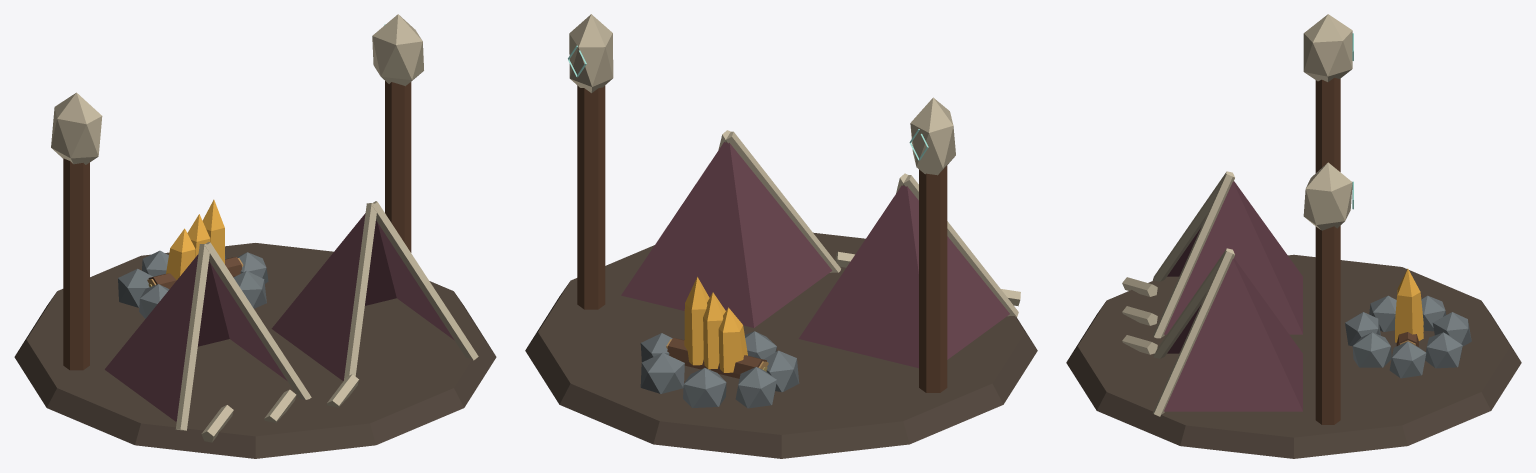
Rendered from MonsterCamp_2.fbx.
The picture shows the model from 3 angles, left to right: view 1: azimuth 30°, elevation 25°; view 2: azimuth 150°, elevation 25°; view 3: azimuth 270°, elevation 25°; orthographic projection. The views are drawn at different scales.
Parts seen in each view (by area): view 1: MonsterCamp_2; view 2: MonsterCamp_2; view 3: MonsterCamp_2.
Part boxes in pixels (<box>): MonsterCamp_2: <box>14,14,496,458</box>; MonsterCamp_2: <box>525,14,1037,458</box>; MonsterCamp_2: <box>1066,14,1521,458</box>.
Size of the model in its own units: 2 by 1.33 by 2.
Materials: 1 (1 with a texture image).
